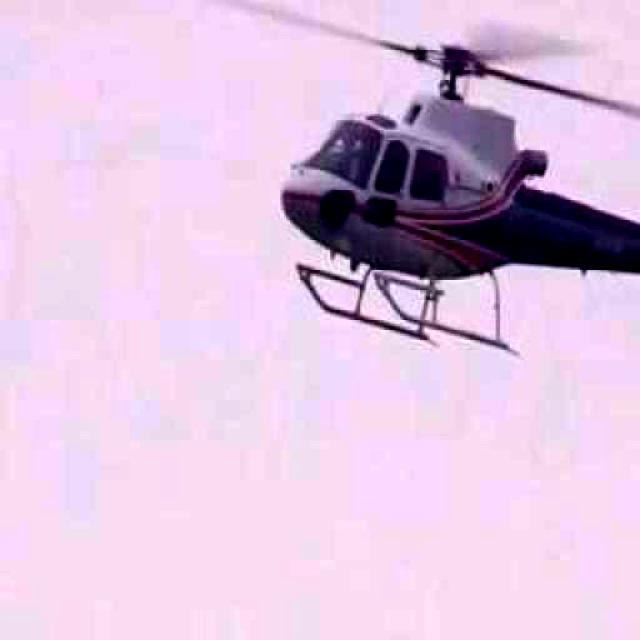drone: (166, 0, 640, 399)
